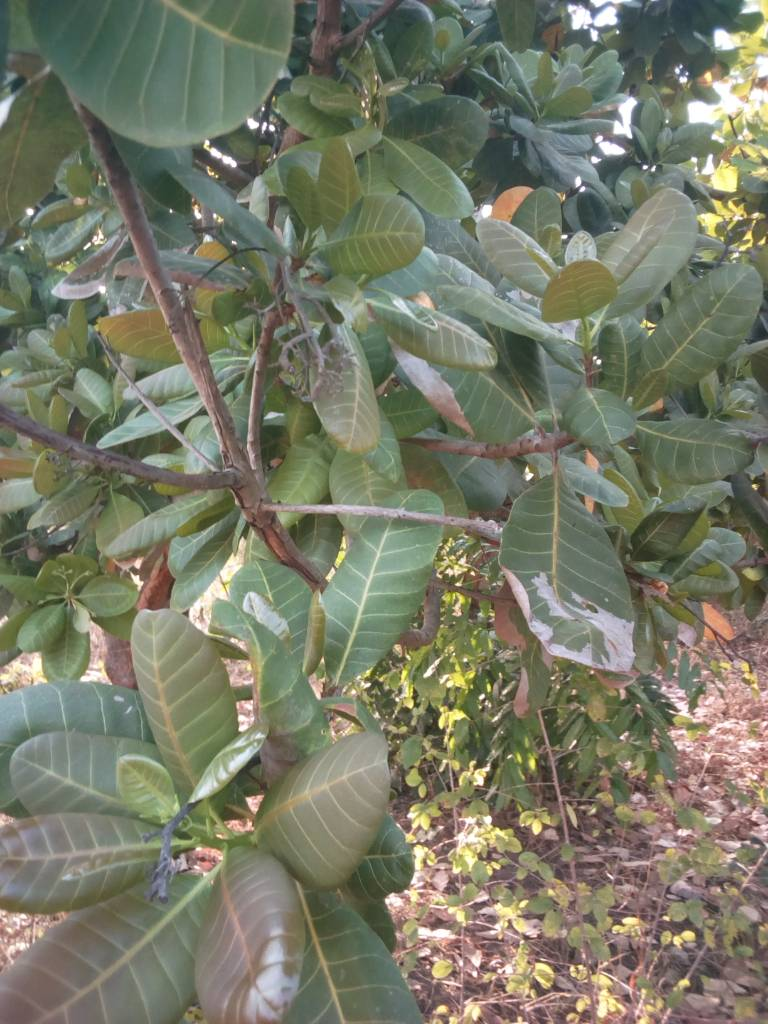Dessèchement des bourgeons: (138, 810, 194, 903)
